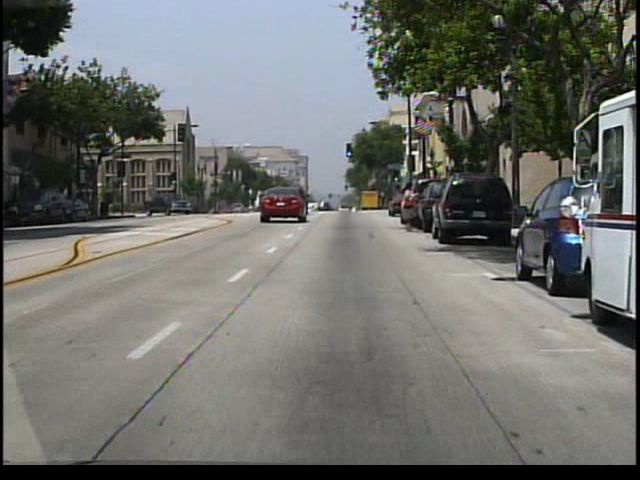person: (397, 181, 423, 234)
